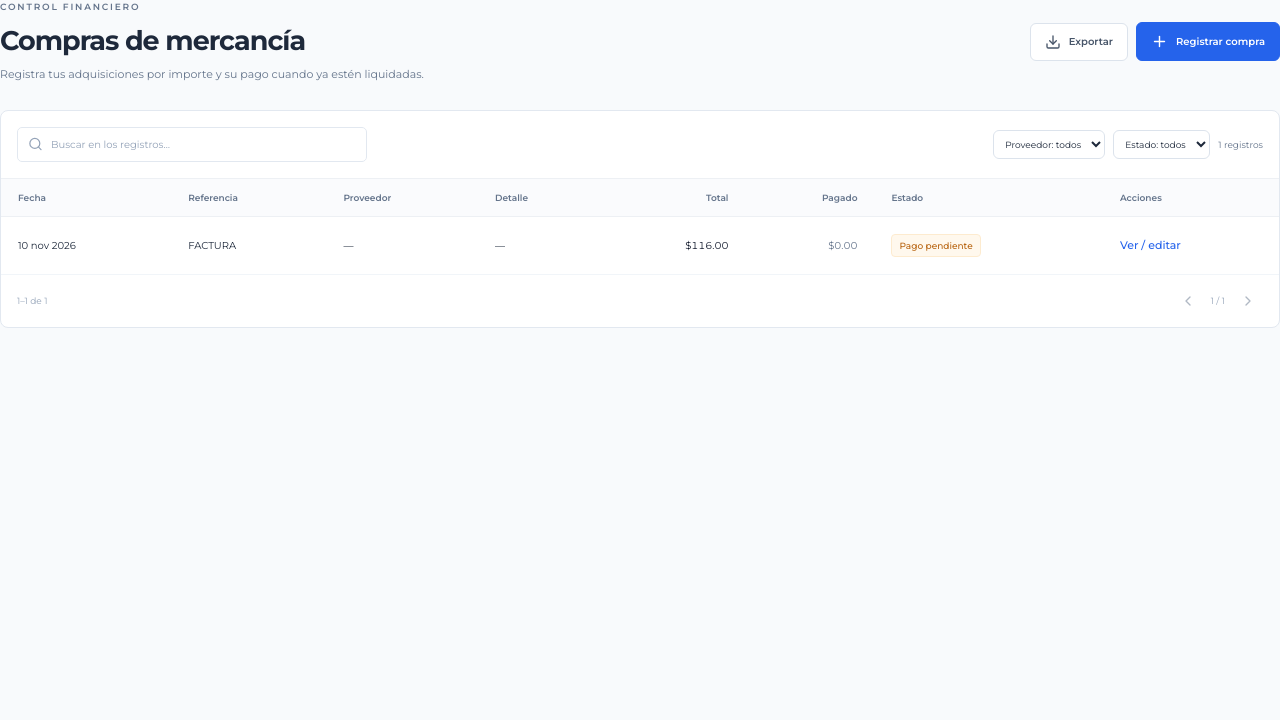
permite cancelar un registro de purchases con motivo y muestra el resultado
This screenshot has width=1280, height=720.
Click the button "Ver / editar": (1150, 246) [1120,232,1181,259]
(page scrolled)
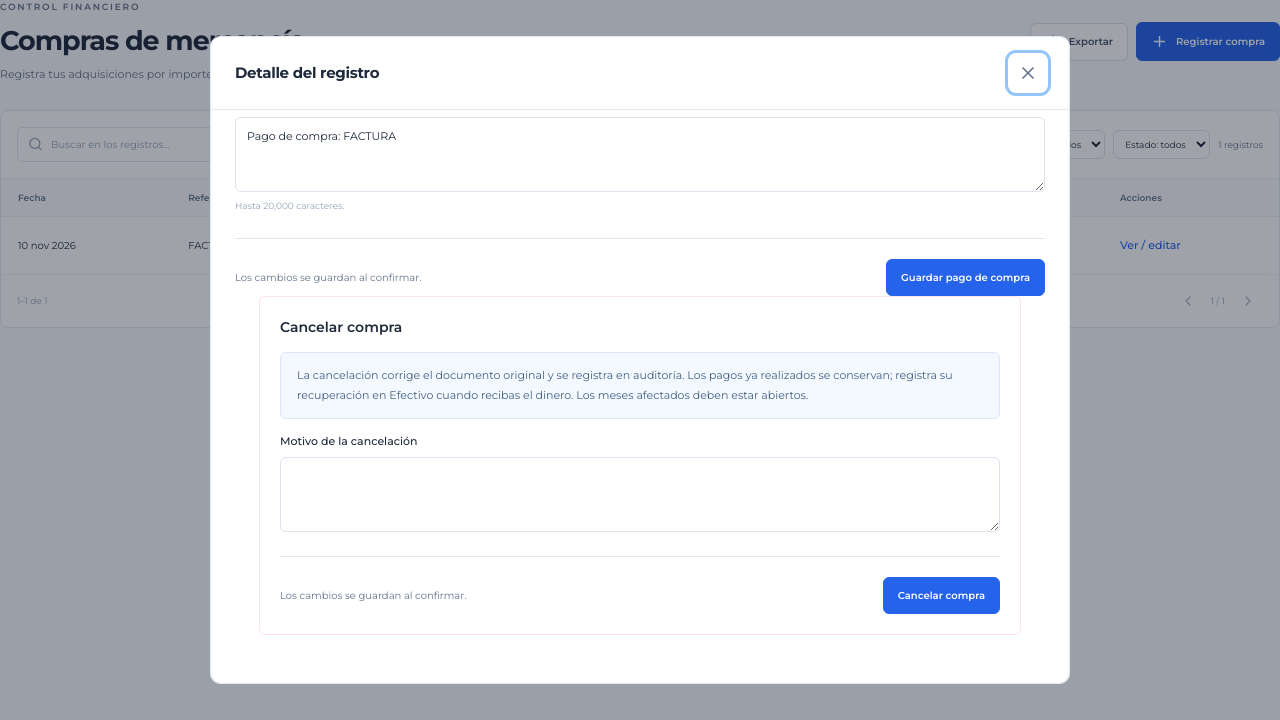
In the text box labelled "Motivo de la cancelación": (640, 494) [280,457,1000,532], type "Registro capturado por error"
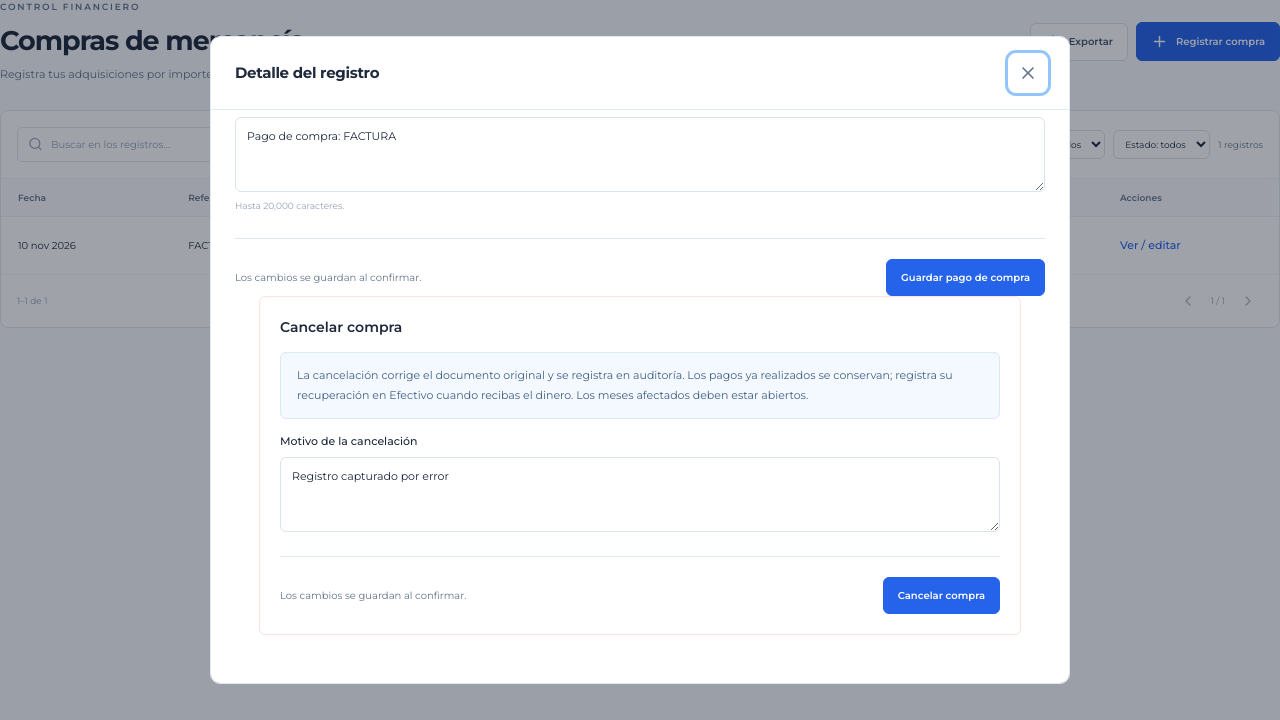
Click the button "Cancelar compra": (941, 595) [883,577,1000,614]
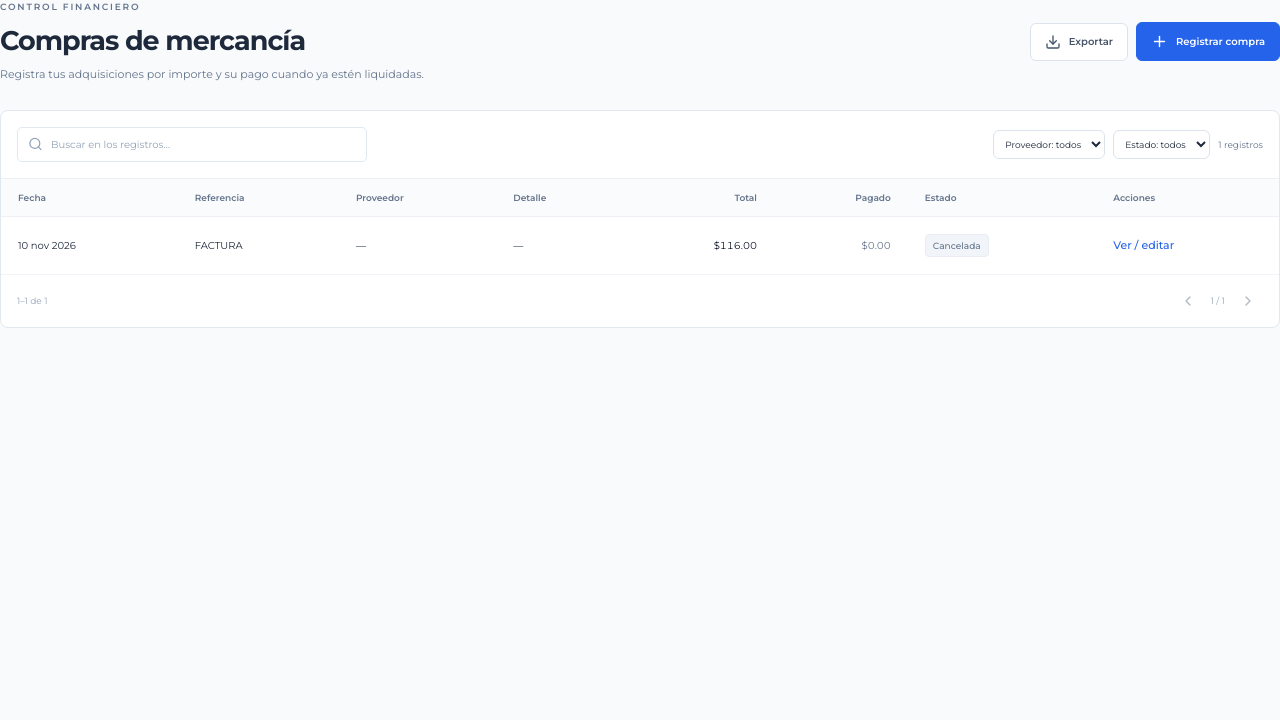
Expected: the text "Cancelada" is shown, [925,234,989,257]
Click the button "Ver / editar": (1144, 246) [1113,232,1174,259]
(page scrolled)
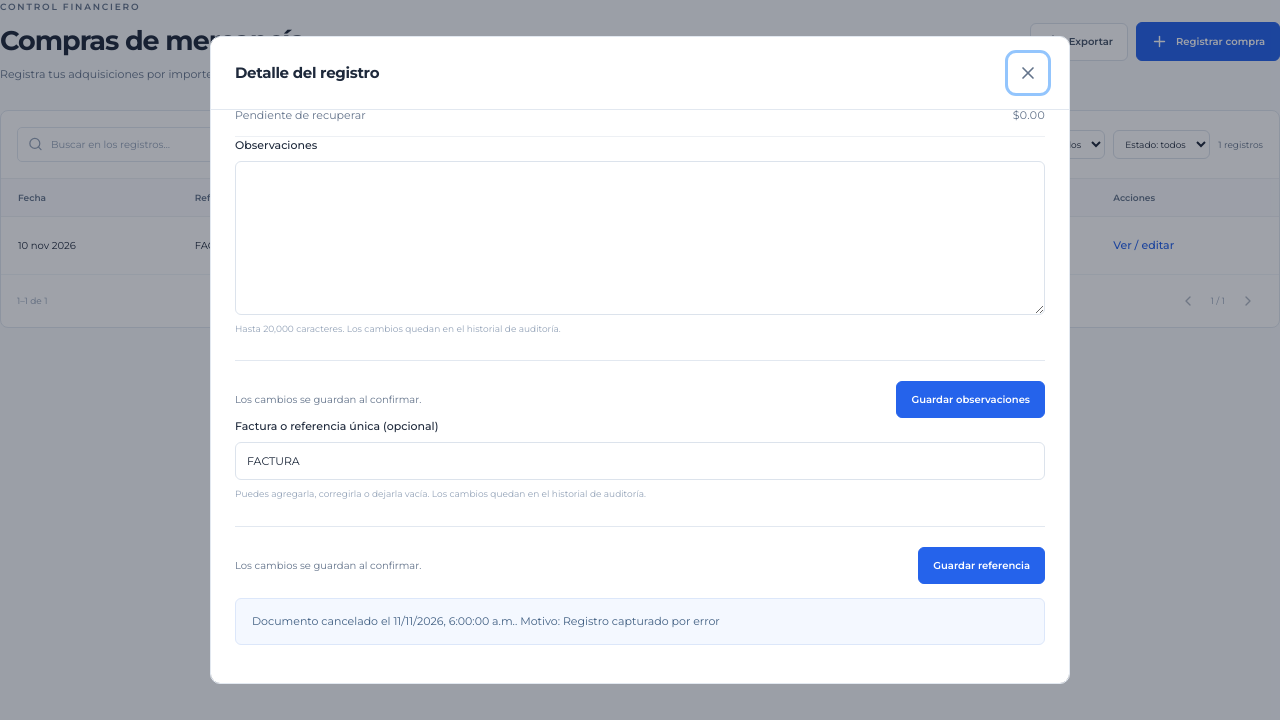
Expected: the heading "Cancelar compra" is not shown
Expected: the text "Documento cancelado el" is shown, [252,614,393,628]
